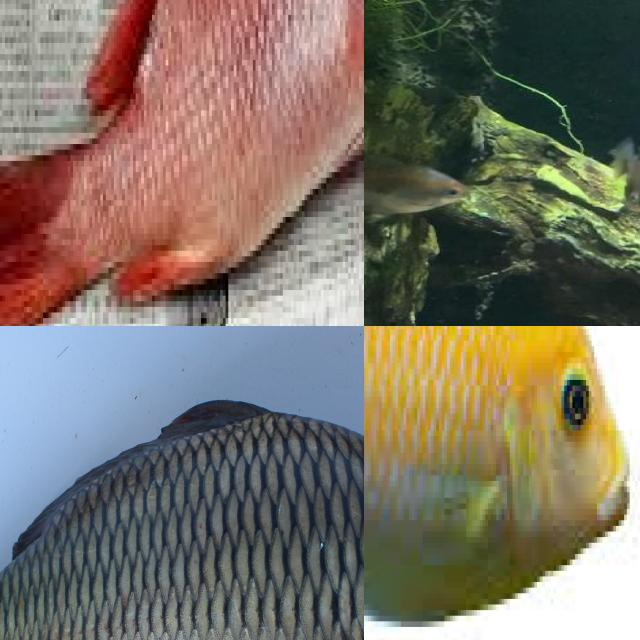fish: (0, 0, 364, 326), (0, 332, 364, 640), (364, 326, 640, 640)
